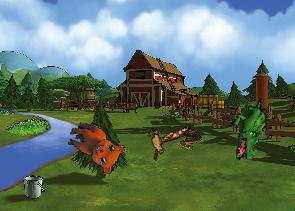bear: (60, 118, 128, 177)
crocodile: (228, 98, 271, 161)
eagle: (137, 110, 191, 168)
